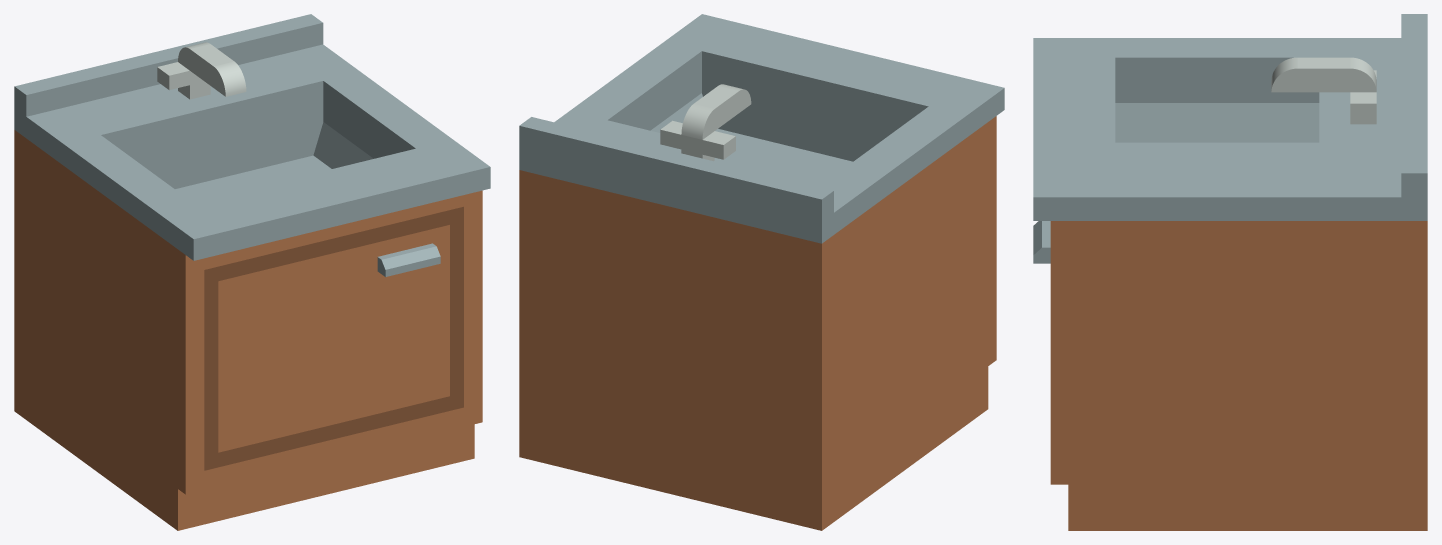
File: furn_kitchenSink.glb
3 views of the same model, side by side, from view 1: azimuth 30°, elevation 25°; view 2: azimuth 150°, elevation 25°; view 3: azimuth 270°, elevation 25° (orthographic). The views are drawn at different scales.
Parts seen in each view (by area): view 1: kitchenSink(Clone), door; view 2: kitchenSink(Clone); view 3: kitchenSink(Clone), door.
Part boxes in pixels (left/top/right/bottom): kitchenSink(Clone): left=14, top=14, right=490, bottom=530; door: left=204, top=206, right=463, bottom=470; kitchenSink(Clone): left=519, top=14, right=1004, bottom=530; kitchenSink(Clone): left=1033, top=14, right=1427, bottom=530; door: left=1033, top=221, right=1050, bottom=263.
Bounding box in the file's own units: 0.43 × 0.49 × 0.45.
